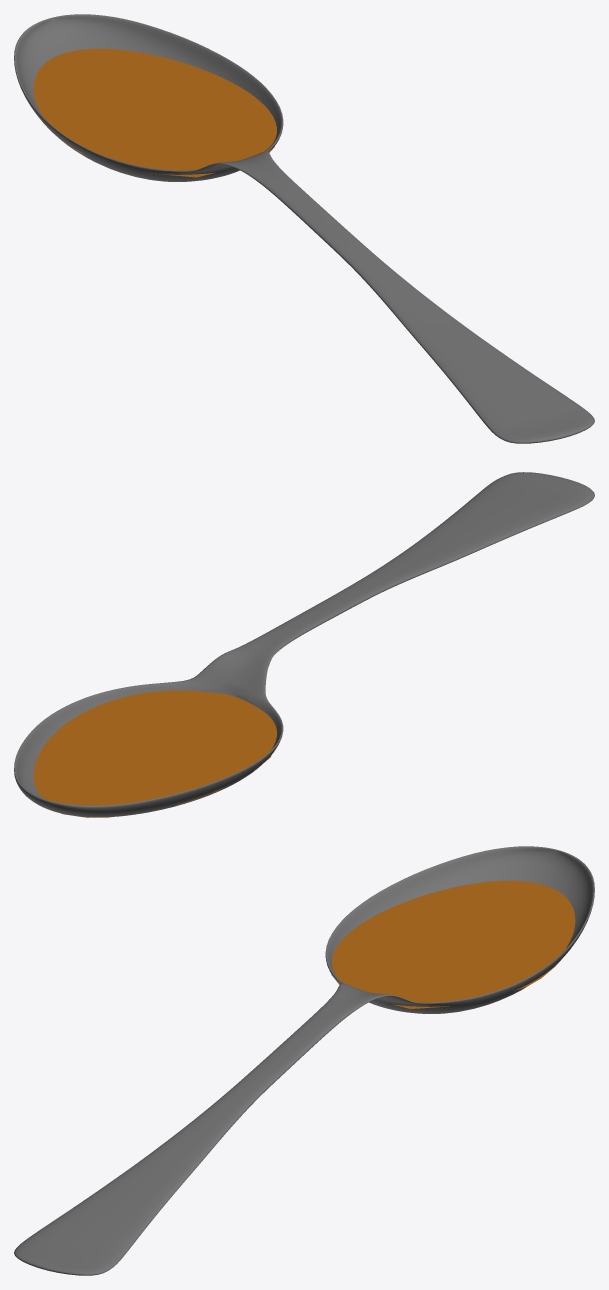
The model's file is fullspoon.fbx.
3 renders of one model, top to bottom at view 1: azimuth 30°, elevation 25°; view 2: azimuth 150°, elevation 25°; view 3: azimuth 330°, elevation 25°, orthographic.
Visible parts, largest first — view 1: sphere4_extract6, Cube; view 2: sphere4_extract6, Cube; view 3: sphere4_extract6, Cube.
Boxes of the visible parts, x1,y1,x2,y2 form: sphere4_extract6: [14, 14, 594, 443]; Cube: [33, 48, 276, 177]; sphere4_extract6: [14, 472, 594, 817]; Cube: [33, 690, 276, 817]; sphere4_extract6: [14, 846, 594, 1275]; Cube: [331, 880, 575, 1008].
Bounding box in the file's own units: 42.62 × 11.04 × 185.
